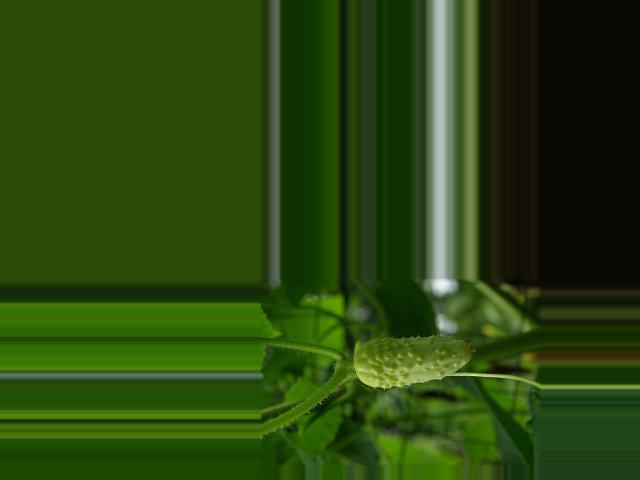cucumber: (353, 336, 476, 389)
